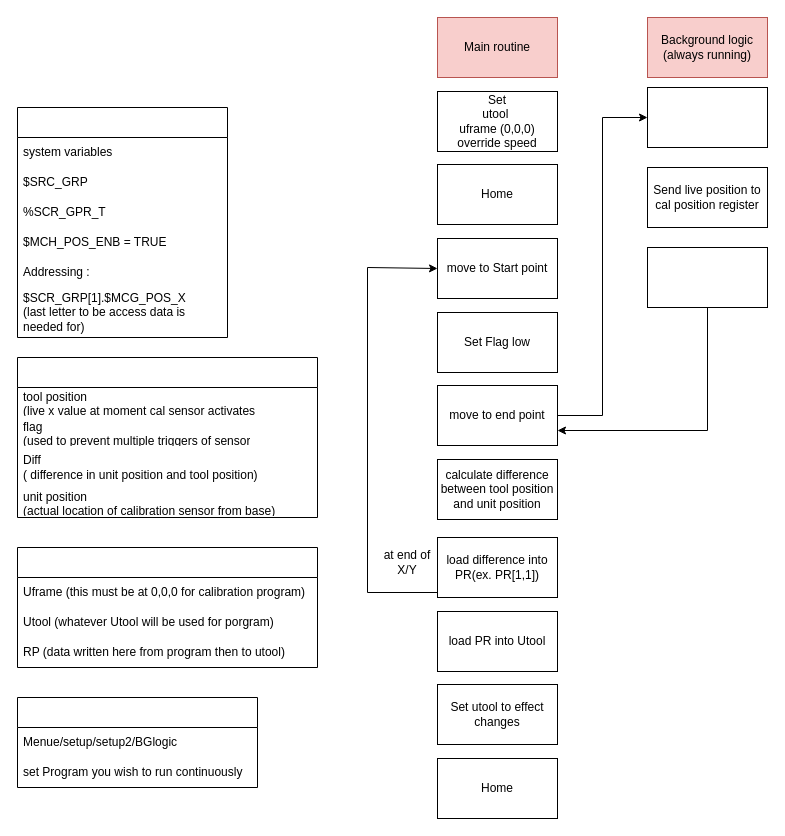
Some shapes in this 785 by 836 pixel diagram are drawn without their labels. The shapes that lost their labels are listed below. From the top down, each one's box as (x1, y1, x2, y2) in pixels, then its label:
(646, 86, 768, 148): check for flag and di
(16, 106, 228, 338): live value setup
(646, 246, 768, 308): set flag high
(16, 356, 318, 518): Register List (copy for each axis)
(16, 546, 318, 668): Other Data
(16, 696, 258, 788): BG setup instructions
